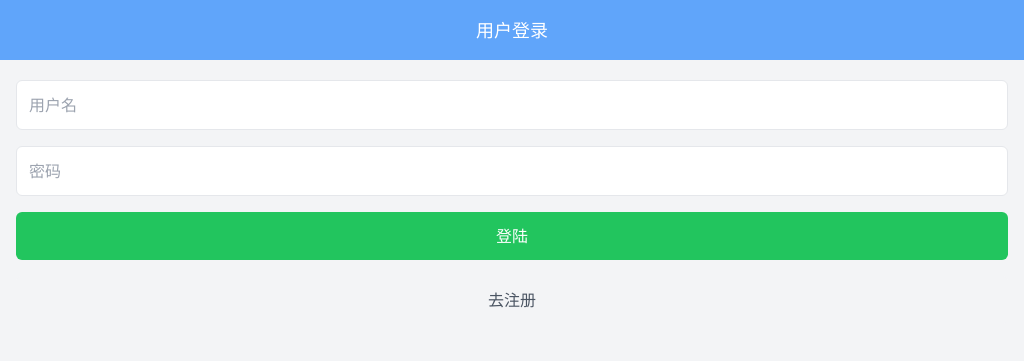
Login.vue › 应该处理401错误
Type "testuser" into the field with placeholder "用户名".
click(512, 105); type("testuser")  # box [16,80,1008,130]
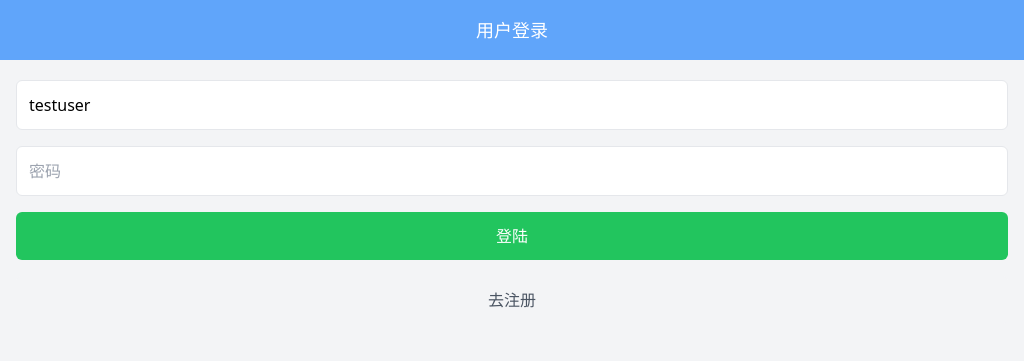
Type "testpass" into the password field with placeholder "密码".
click(512, 171); type("testpass")  # box [16,146,1008,196]
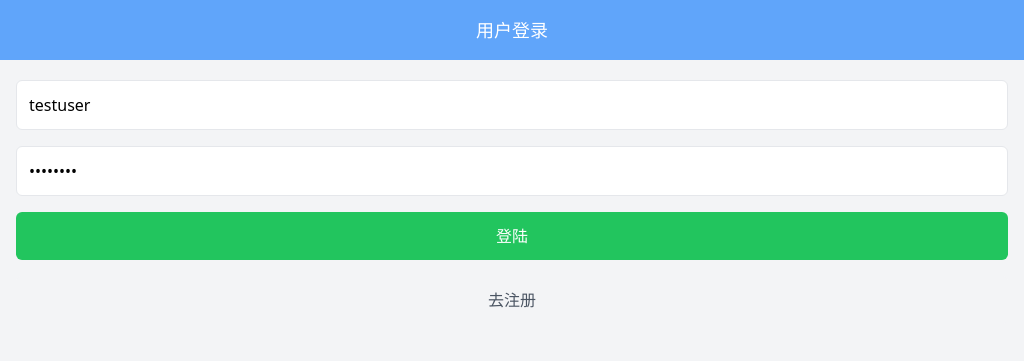
Click the button "登陆".
click(512, 236)  # box [16,212,1008,260]
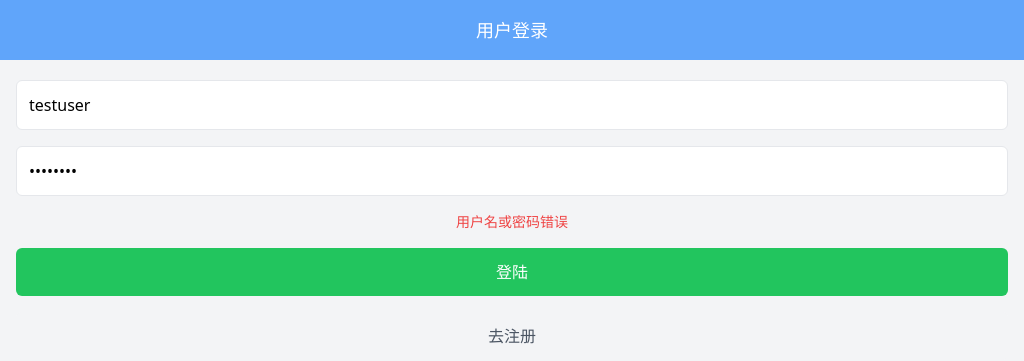
Now the text "用户名或密码错误" is shown, box [456,212,568,231]
